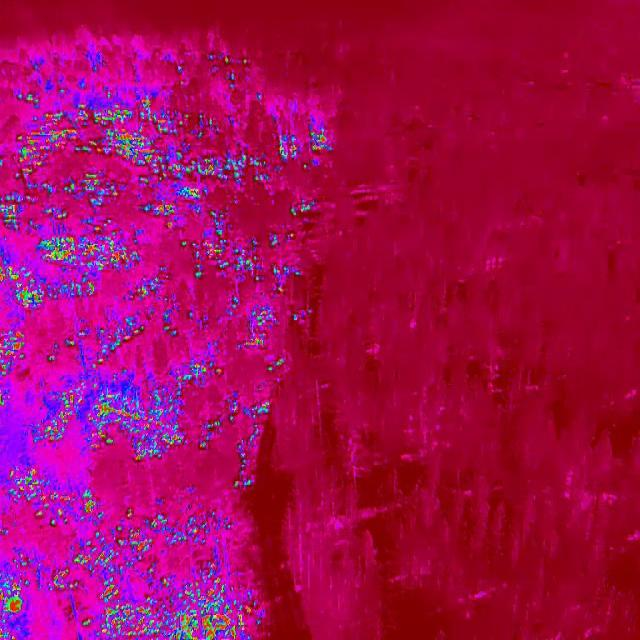fire: (0, 87, 269, 223), (33, 373, 223, 463), (83, 576, 261, 640), (62, 274, 176, 366), (52, 508, 160, 598), (29, 221, 152, 277), (168, 222, 266, 286), (6, 465, 96, 524), (222, 391, 270, 490), (268, 128, 334, 171), (156, 507, 219, 548), (0, 322, 27, 407), (264, 259, 312, 306), (0, 263, 45, 312), (240, 306, 278, 352), (172, 355, 226, 387), (0, 576, 28, 636), (285, 194, 319, 220), (265, 354, 291, 378), (221, 50, 252, 70)
